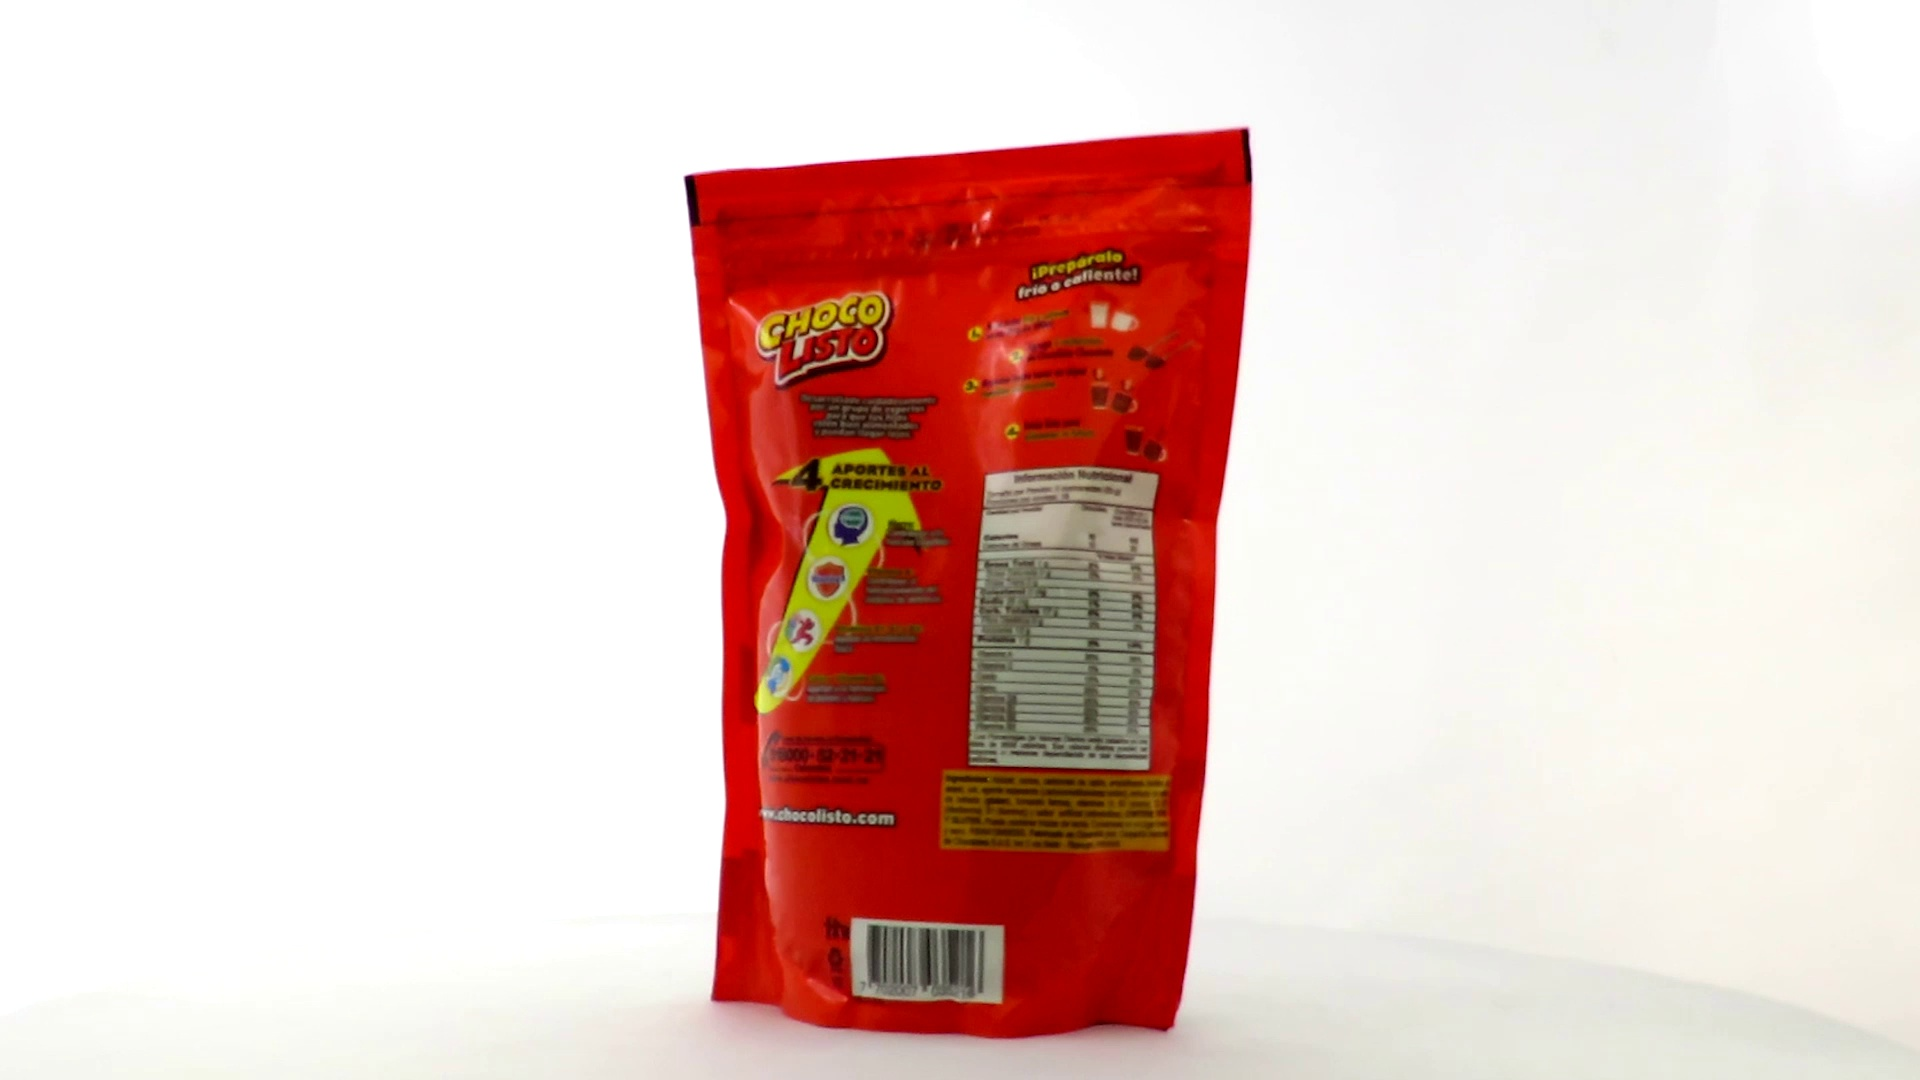COL0170103DYP36000: (679, 123, 1258, 1044)
